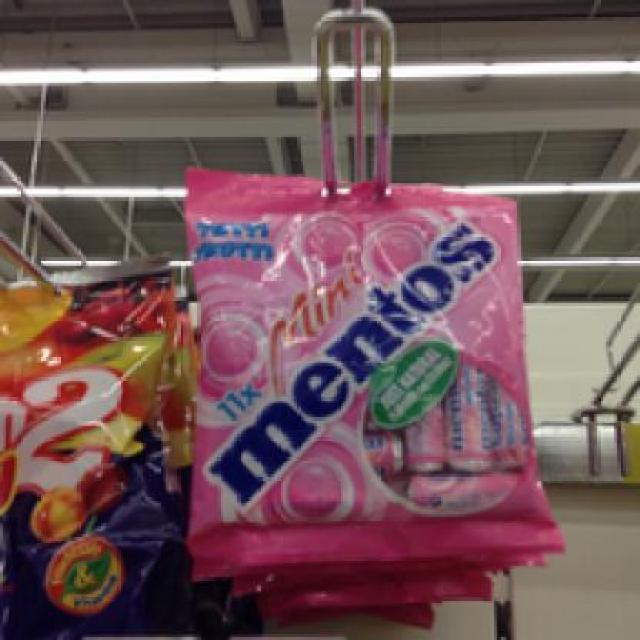Candy: (188, 163, 558, 566), (0, 274, 177, 617)
